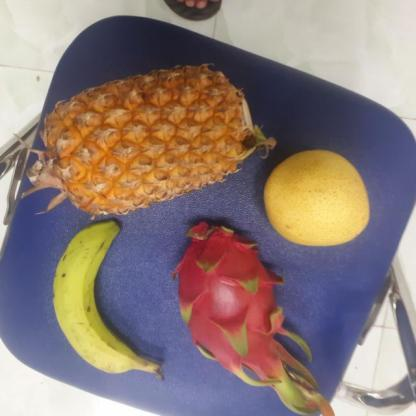banana: (51, 221, 157, 375)
pear: (256, 151, 373, 246)
pineapple: (32, 70, 260, 218)
pitaya: (166, 221, 296, 372)
